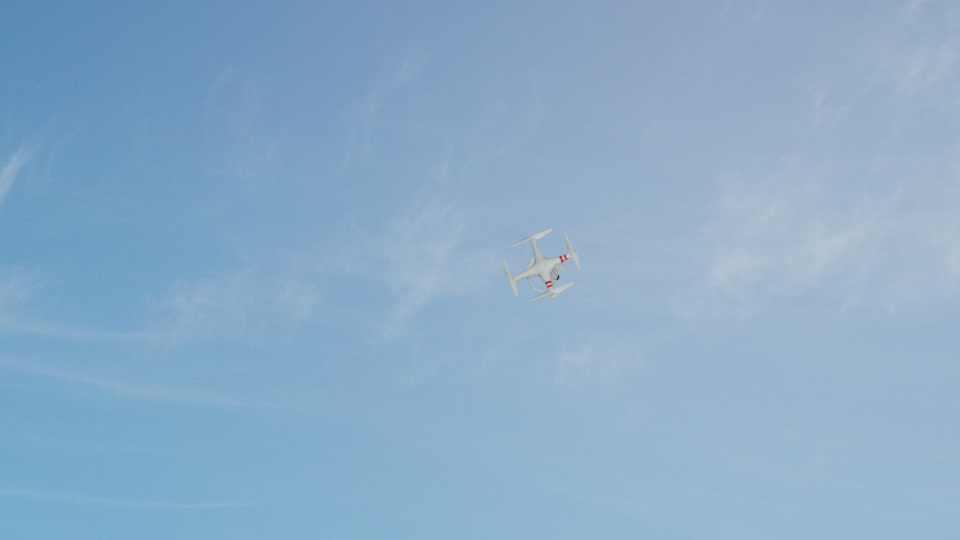drone: (501, 225, 585, 299)
